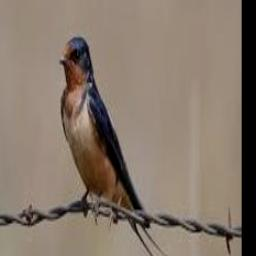Swallow: (58, 37, 167, 256)
